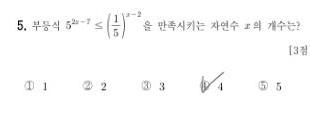choice: (198, 76, 213, 94)
not-choice: (22, 79, 35, 92), (81, 78, 93, 91), (256, 79, 269, 91), (140, 79, 151, 92)
